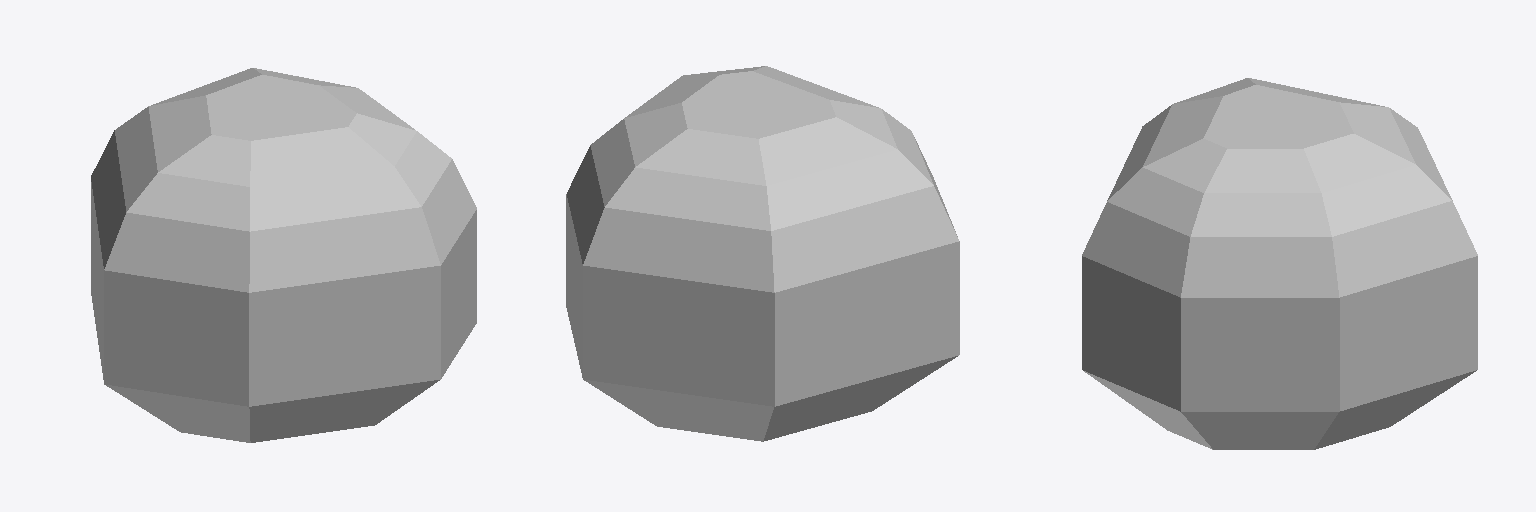
The model's file is Prop_Rock_4.obj.
3 views of the same model, side by side, from view 1: azimuth 30°, elevation 25°; view 2: azimuth 150°, elevation 25°; view 3: azimuth 270°, elevation 25° (orthographic).
Visible parts, largest first — view 1: object1; view 2: object1; view 3: object1.
Part boxes in pixels (x1,y1,x2,y2): object1: (91, 68, 476, 442); object1: (566, 66, 959, 441); object1: (1082, 78, 1477, 449).
Size of the model in its own units: 1.5 by 1.2 by 1.5.